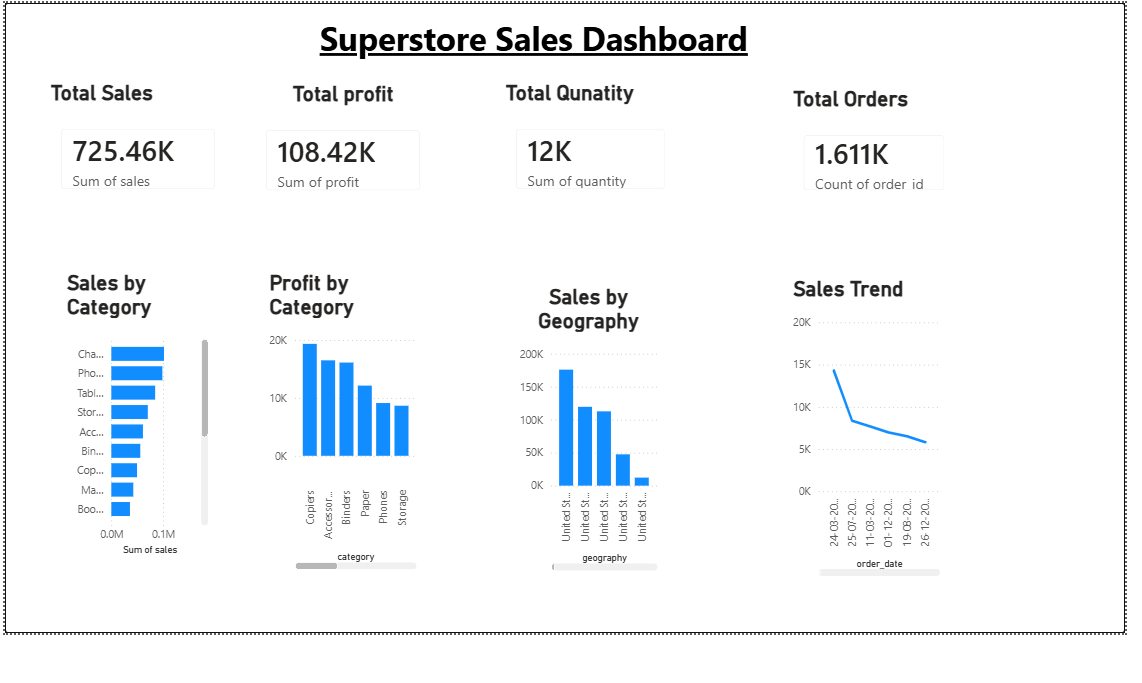

Layout of this report page (visuals, bound fields, positions):
{"tool":"powerbi","page":{"name":"Page 1","canvas":[1280,720],"ordinal":0},"visuals":[{"type":"clusteredBarChart","title":"Sales by Category","fields":{"Category":["superstore hari_sales_data.category"],"Y":["Sum(superstore hari_sales_data.sales)"]},"box":[65.7,305.7,171.7,330],"z":0},{"type":"clusteredColumnChart","title":"Sales by Geography","fields":{"Category":["superstore hari_sales_data.geography"],"Y":["Sum(superstore hari_sales_data.sales)"]},"box":[582.9,321.4,168,332],"z":1000},{"type":"clusteredColumnChart","title":"Profit by Category","fields":{"Category":["superstore hari_sales_data.category"],"Y":["Sum(superstore hari_sales_data.profit)"]},"box":[297.1,305.7,178.3,346.7],"z":2000},{"type":"lineChart","title":"Sales Trend","fields":{"Y":["Sum(superstore hari_sales_data.sales)"],"Category":["superstore hari_sales_data.order_date"]},"box":[895.7,312.9,178,347],"z":3000},{"type":"cardVisual","title":"Total Sales","fields":{"Data":["Sum(superstore hari_sales_data.sales)"]},"box":[47.1,88.6,210,141.4],"z":4000},{"type":"cardVisual","title":"Total profit","fields":{"Data":["Sum(superstore hari_sales_data.profit)"]},"box":[281.4,90,210,141.4],"z":5000},{"type":"cardVisual","title":"Total Qunatity","fields":{"Data":["Sum(superstore hari_sales_data.quantity)"]},"box":[567.1,88.6,204.3,141.4],"z":6000},{"type":"textbox","box":[134.3,10,940,72.9],"z":7000},{"type":"cardVisual","title":"Total Orders","fields":{"Data":["Count(superstore hari_sales_data (2).order_id)"]},"box":[895.7,95.7,195.7,135.7],"z":8000}]}

Visuals, with their boxes on the page's 1280x720 design canvas (x1, y1, x2, y2). These are canvas units, not pixel positions in the 1142x683 screenshot, which may show the page scaled, cropped or inside an application window:
"Sales by Category" clusteredBarChart: {"x1": 66, "y1": 306, "x2": 237, "y2": 636}
"Sales by Geography" clusteredColumnChart: {"x1": 583, "y1": 321, "x2": 751, "y2": 653}
"Profit by Category" clusteredColumnChart: {"x1": 297, "y1": 306, "x2": 475, "y2": 652}
"Sales Trend" lineChart: {"x1": 896, "y1": 313, "x2": 1074, "y2": 660}
"Total Sales" cardVisual: {"x1": 47, "y1": 89, "x2": 257, "y2": 230}
"Total profit" cardVisual: {"x1": 281, "y1": 90, "x2": 491, "y2": 231}
"Total Qunatity" cardVisual: {"x1": 567, "y1": 89, "x2": 771, "y2": 230}
textbox: {"x1": 134, "y1": 10, "x2": 1074, "y2": 83}
"Total Orders" cardVisual: {"x1": 896, "y1": 96, "x2": 1091, "y2": 231}
